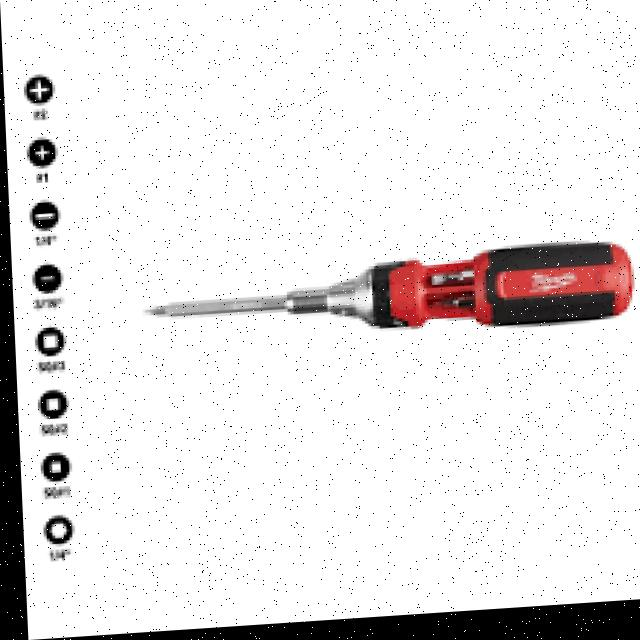Screwdriver: (148, 251, 631, 335)
